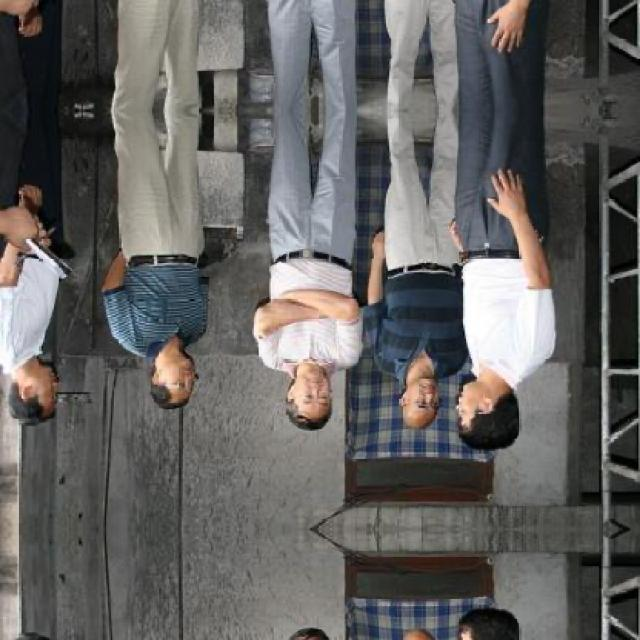sin casco: (291, 358, 447, 451), (102, 339, 234, 441), (440, 374, 554, 476), (0, 314, 82, 439), (414, 389, 487, 443)
